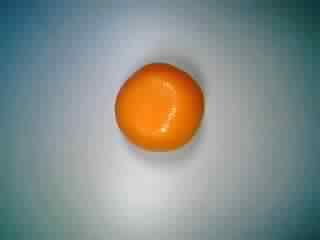orange: (109, 55, 205, 151)
